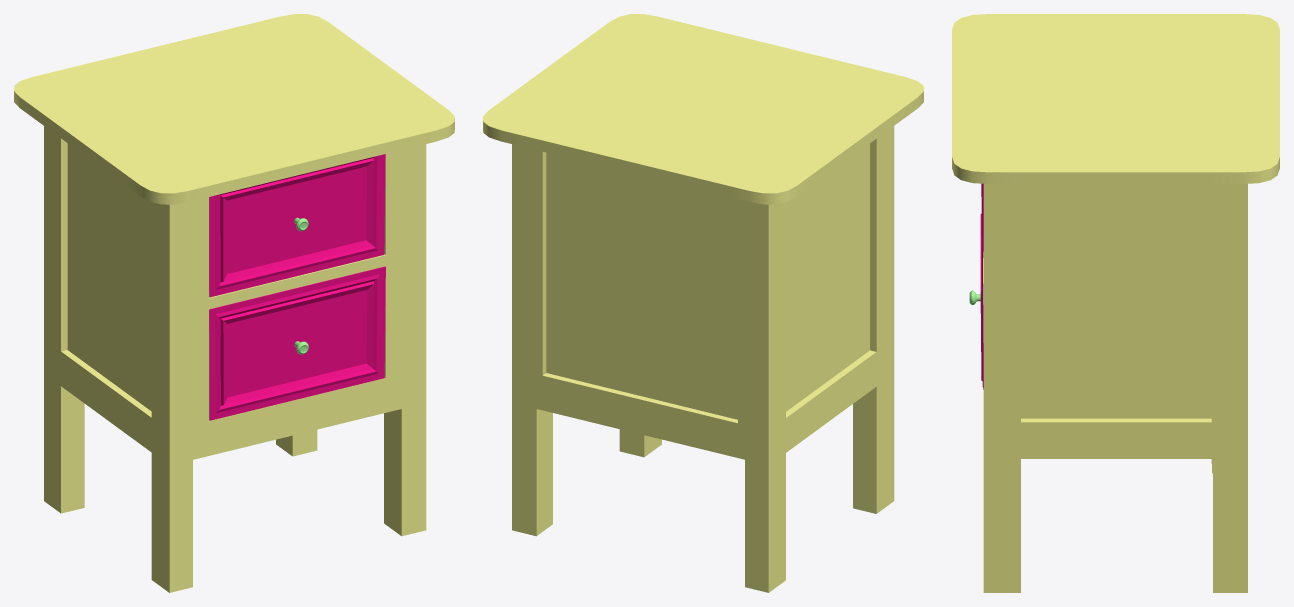
The model's file is Nighstand.fbx.
The picture shows the model from 3 angles, left to right: view 1: azimuth 30°, elevation 25°; view 2: azimuth 150°, elevation 25°; view 3: azimuth 270°, elevation 25°; orthographic projection. The views are drawn at different scales.
Parts seen in each view (by area): view 1: table de chevet, Planche_tiroir2_005, Planche_tiroir1_05, Planche_support_001; view 2: table de chevet; view 3: table de chevet, Planche_tiroir2_005.
Part boxes in pixels (left/top/right/bottom): table de chevet: left=14, top=14, right=454, bottom=592; Planche_tiroir2_005: left=209, top=266, right=385, bottom=420; Planche_tiroir1_05: left=209, top=154, right=385, bottom=297; Planche_support_001: left=209, top=254, right=386, bottom=309; table de chevet: left=483, top=14, right=923, bottom=592; table de chevet: left=952, top=14, right=1279, bottom=592; Planche_tiroir2_005: left=980, top=213, right=983, bottom=389.
Size of the model in its own units: 47.89 by 61.15 by 41.89.
